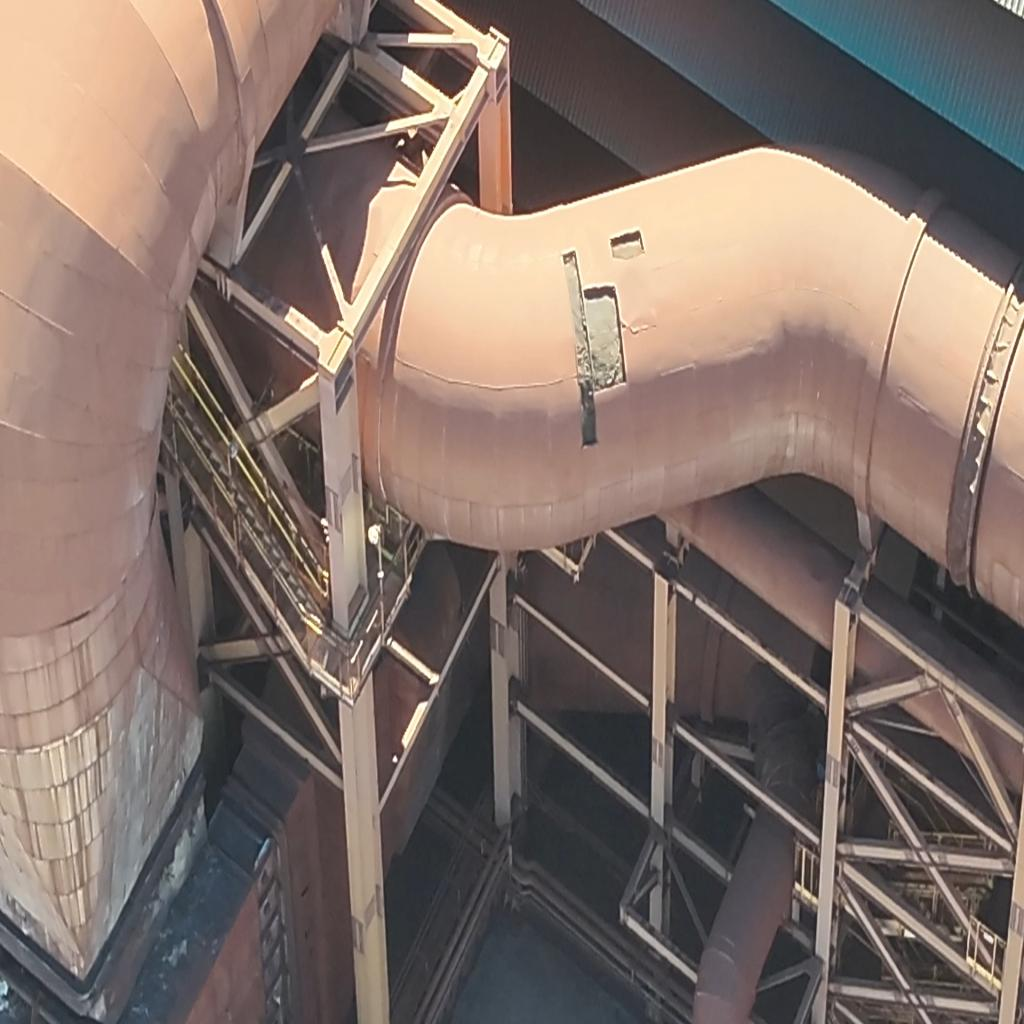Failures: (556, 237, 626, 447), (609, 209, 648, 264)
